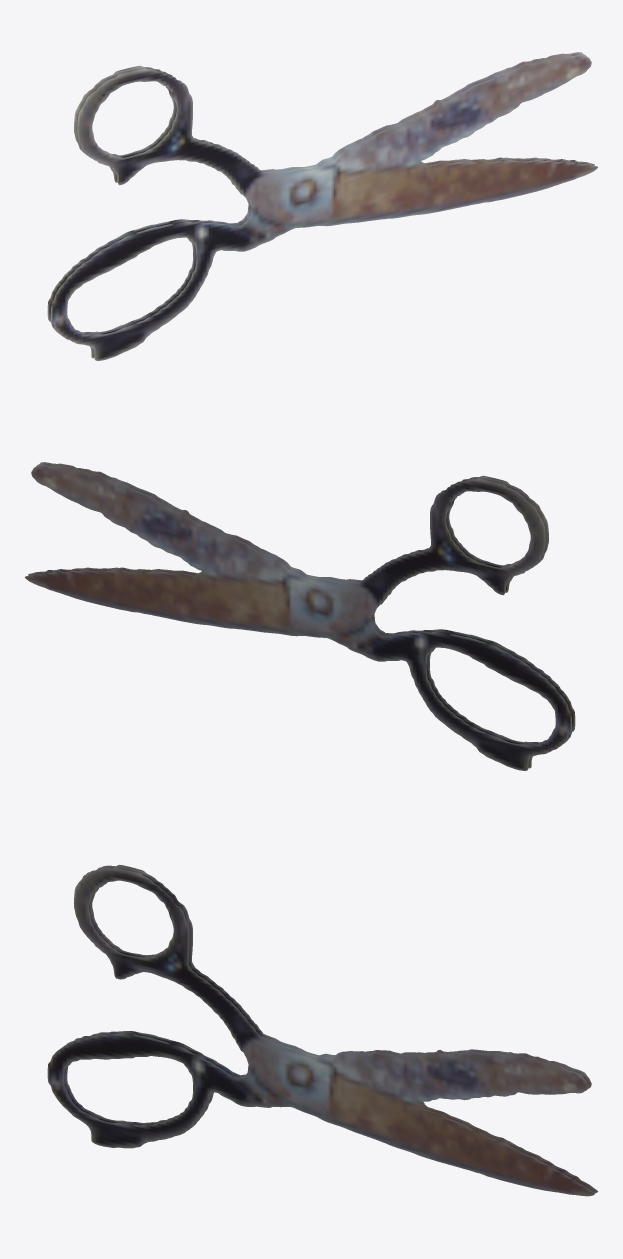
The model's file is billboard_scissor.FBX.
The picture shows the model from 3 angles, top to bottom: view 1: azimuth 30°, elevation 25°; view 2: azimuth 150°, elevation 25°; view 3: azimuth 330°, elevation 25°; orthographic projection.
Visible parts, largest first — view 1: scissors; view 2: scissors; view 3: scissors.
Part boxes in pixels (x1=…): scissors: x1=47, y1=52, x2=597, y2=360; scissors: x1=25, y1=462, x2=575, y2=770; scissors: x1=47, y1=865, x2=597, y2=1196.
Bounding box in the file's own units: 20.87 × 10.31 × 0.1999.
